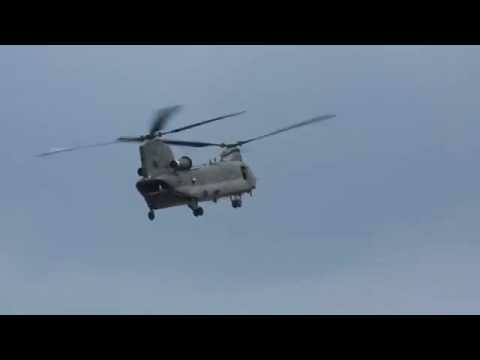chinook: (110, 110, 297, 222)
